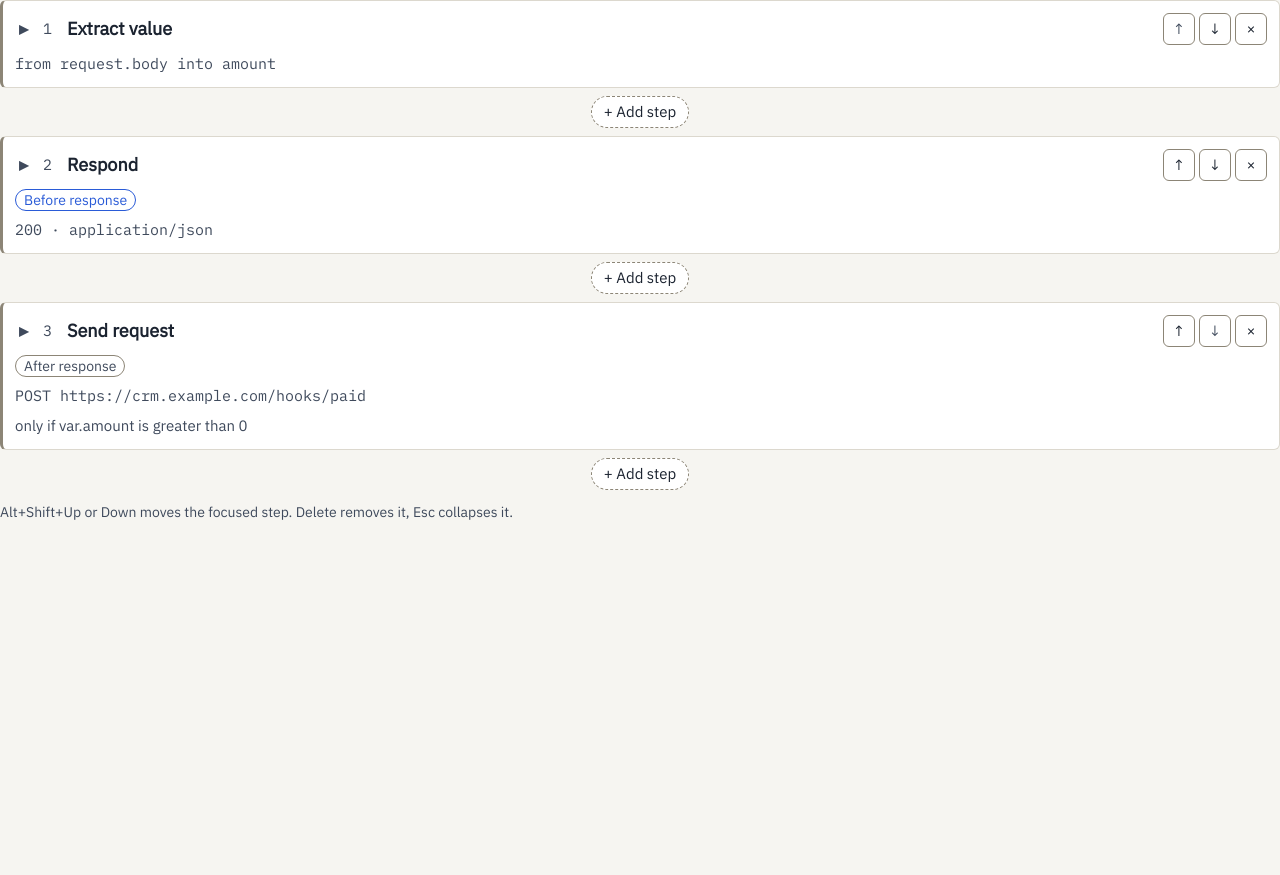
Test: StepList cards › collapses on Escape and returns focus to the heading
Step 1. Click the button "▸ 1 Extract value" → (120, 28), box [15,13,1155,45]
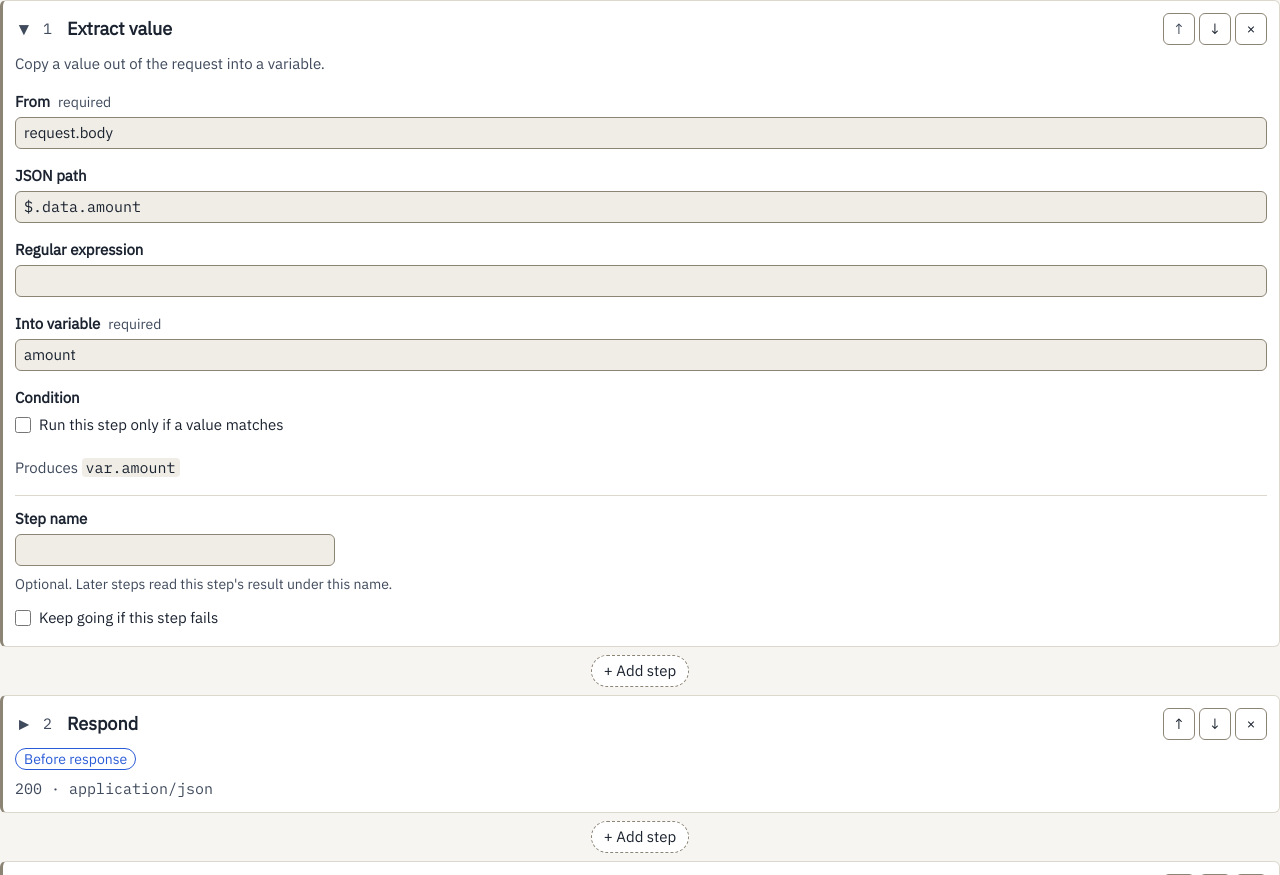
Step 2. Press Escape in the field labelled "From", box [15,117,1267,149]
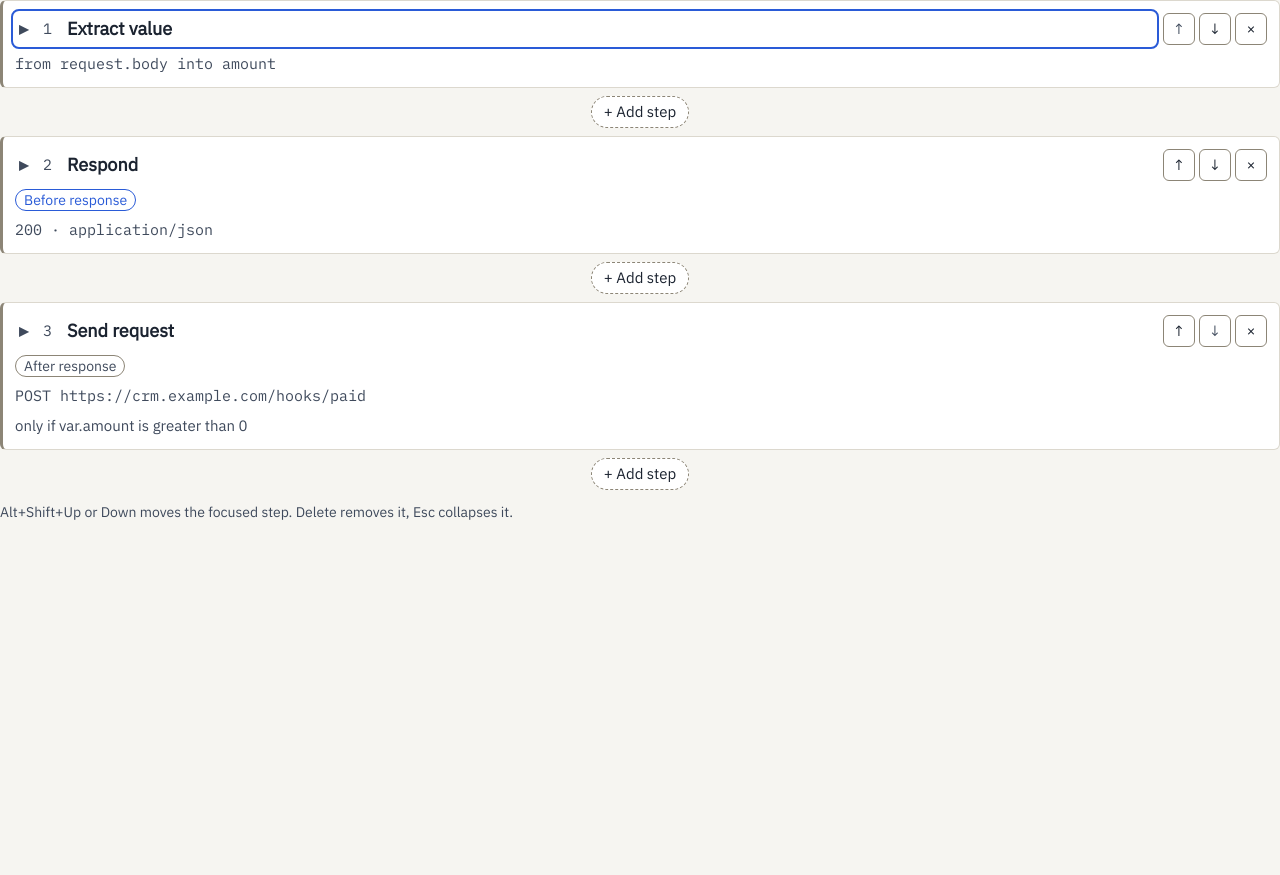
Now the button "▸ 1 Extract value" is collapsed, box [15,13,1155,45]
